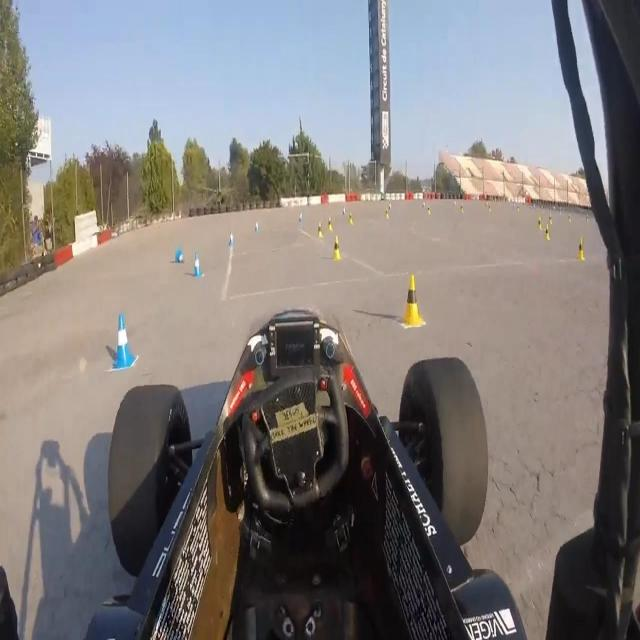blue_cone: (116, 309, 132, 376), (190, 247, 208, 289), (224, 228, 236, 250)
yellow_cone: (399, 274, 429, 328), (328, 233, 348, 259), (313, 217, 323, 236)
